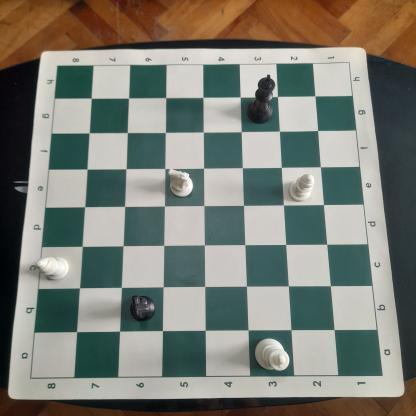black-king: (244, 70, 280, 124)
black-knight: (127, 292, 160, 327)
white-bishop: (32, 253, 74, 285), (284, 171, 318, 206)
white-king: (252, 330, 293, 373)
white-knight: (168, 164, 196, 198)
